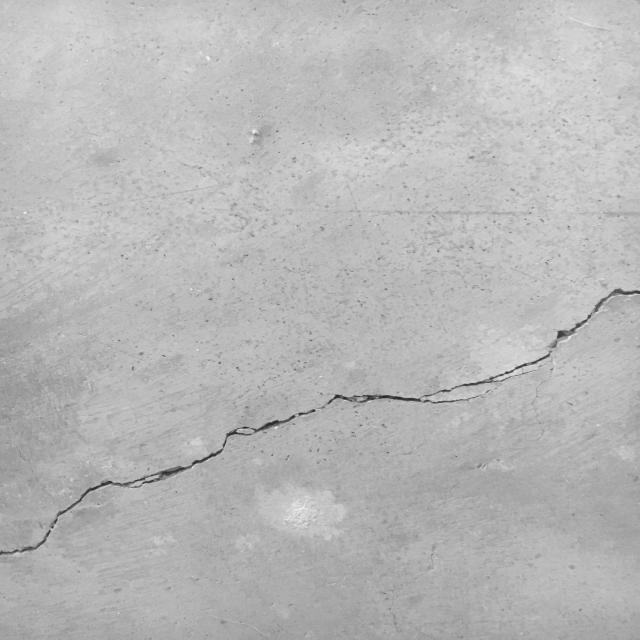SurfaceCrack: (1, 254, 640, 576)
